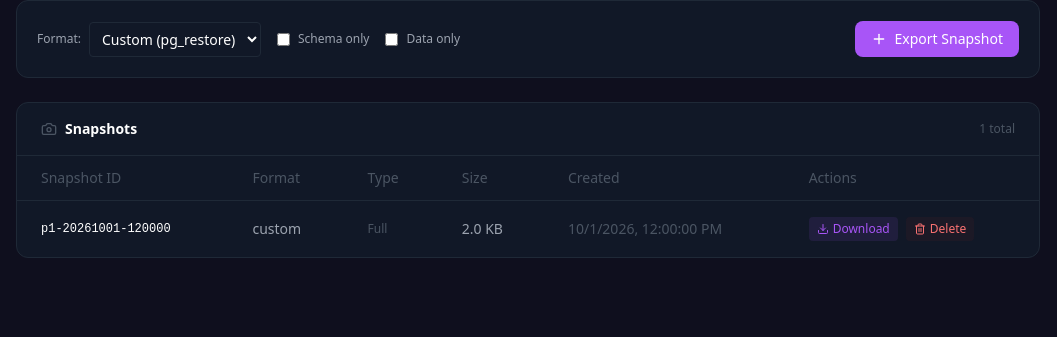
it: SnapshotsPage refusals › a refused export shows the server's reason
The image size is (1057, 337).
Click the button "Export Snapshot" at (937, 39), box left=855, top=21, right=1019, bottom=57
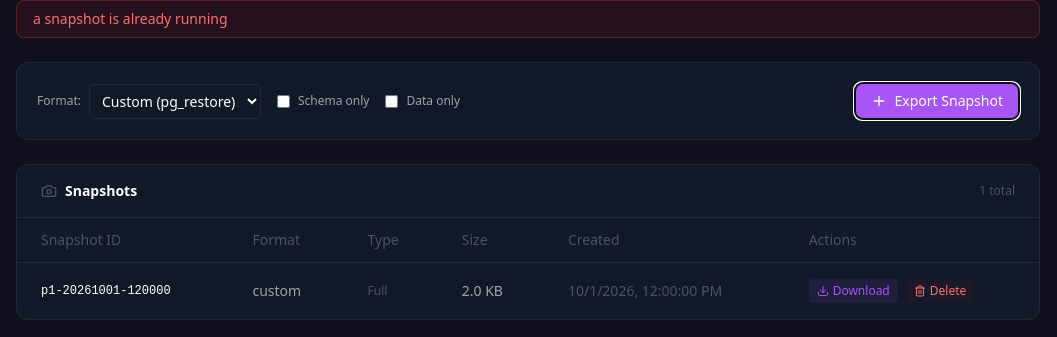
Expected: the text "a snapshot is already running" is shown, left=16, top=0, right=1040, bottom=38
